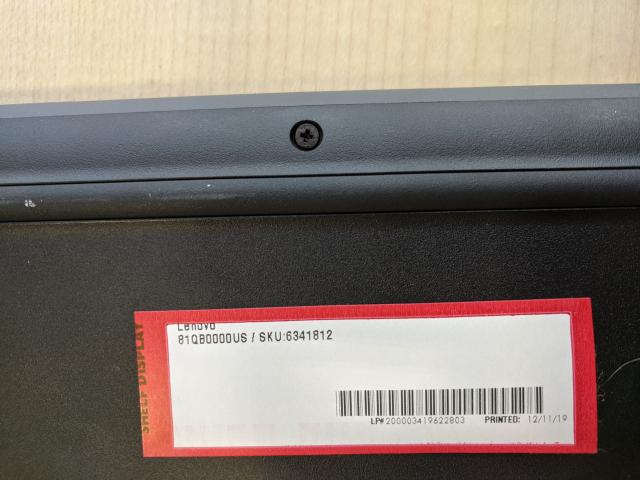CRS: (295, 121, 322, 150)
